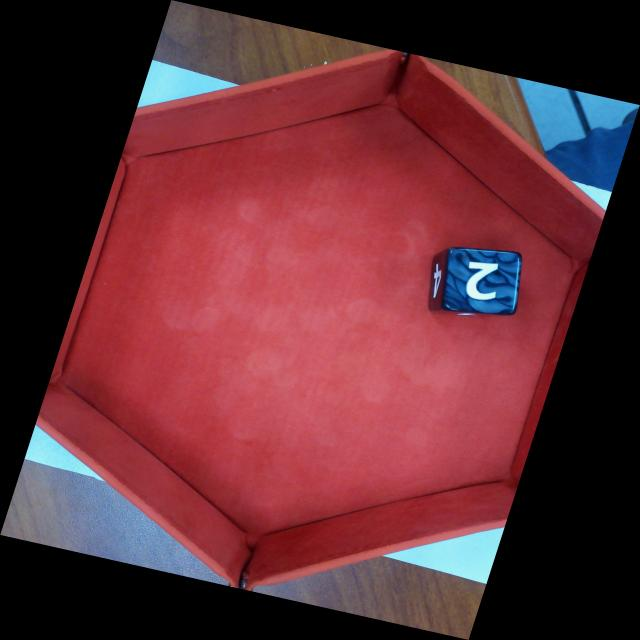dice: (442, 248, 524, 316)
